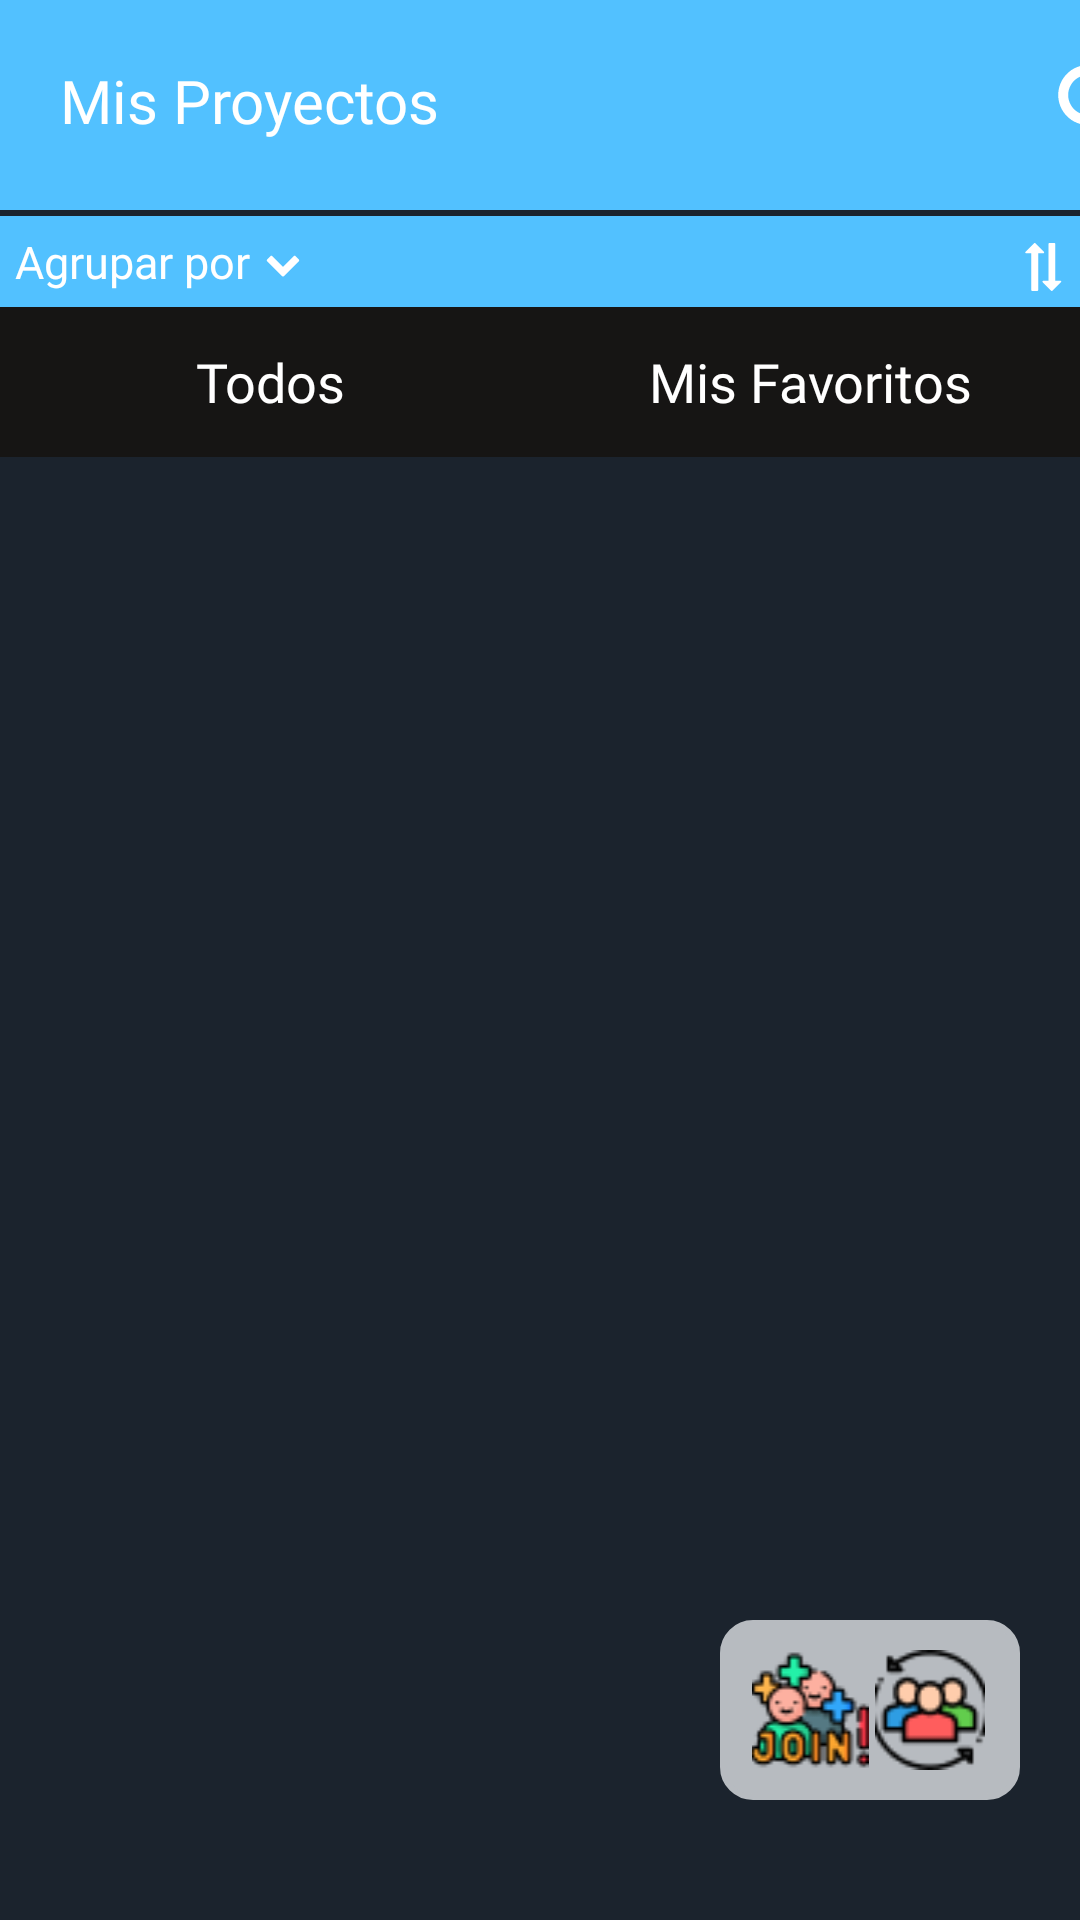

Named icons in this screenshot (1080px×1920px) and their centers, [x,y]:
chevron down: [282,266]
